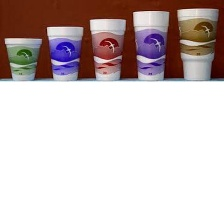paper_cup: (174, 4, 222, 81), (130, 6, 171, 80), (86, 14, 128, 81), (43, 22, 86, 80), (1, 33, 44, 80)
